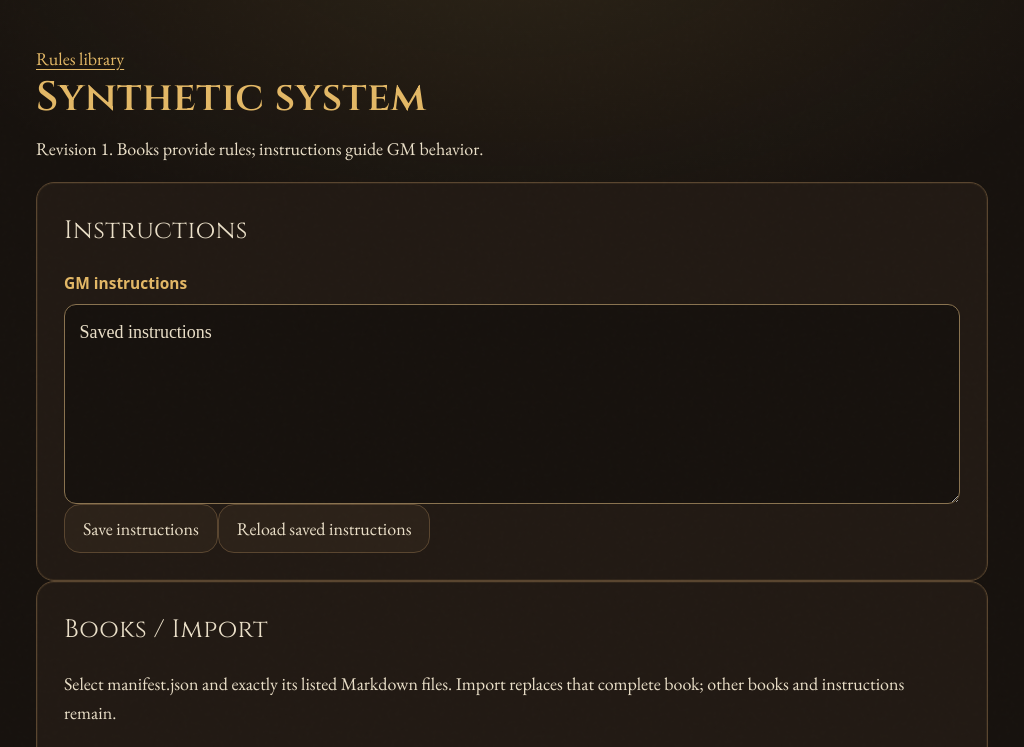
Scenario: saving instructions preserves the open editor and retries with the same revision/request identity
expect the heading "Synthetic system" is shown: met, box [36,70,426,125]
Replace the text in the text box labelled "GM instructions" with "Draft instructions" at {"x": 512, "y": 404}, box [64,304,960,504]
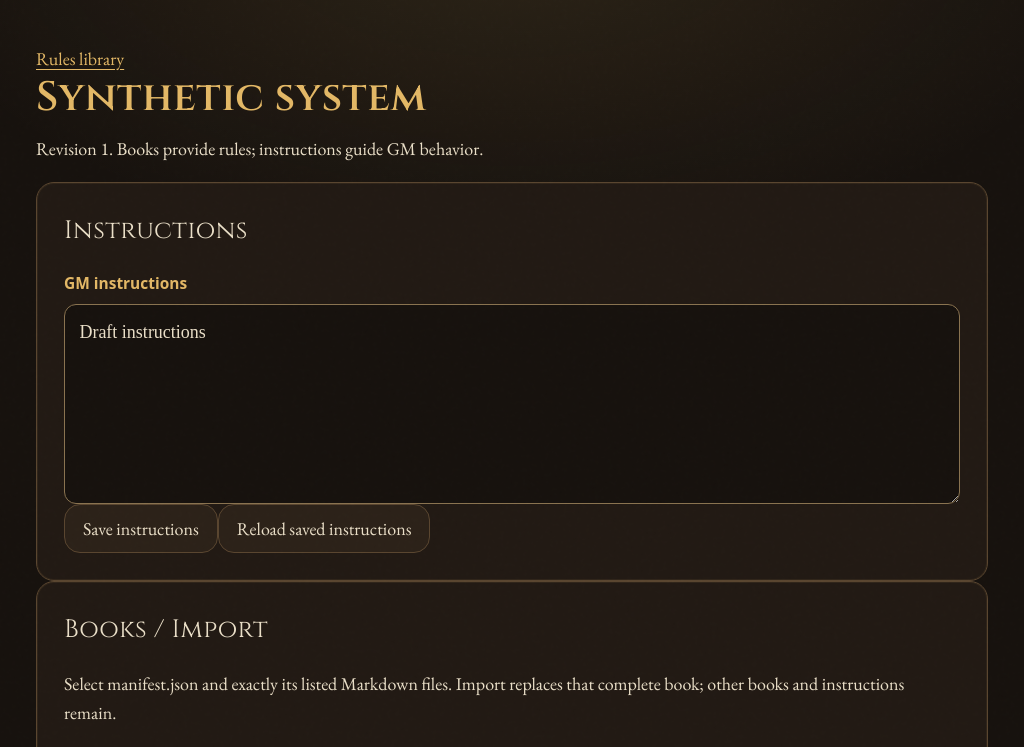
Click the button "Save instructions".
click(141, 528)  # box [64,504,218,553]
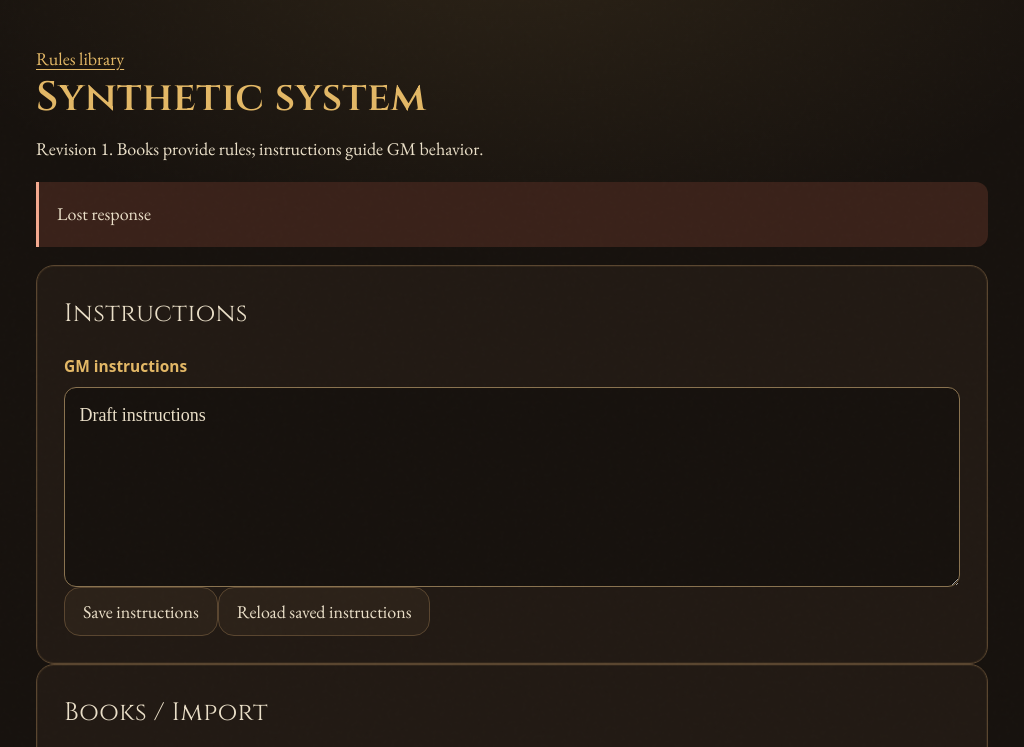
expect the message "Lost response" is shown: met, box [36,182,988,247]
Click the button "Save instructions".
click(141, 611)  # box [64,587,218,636]
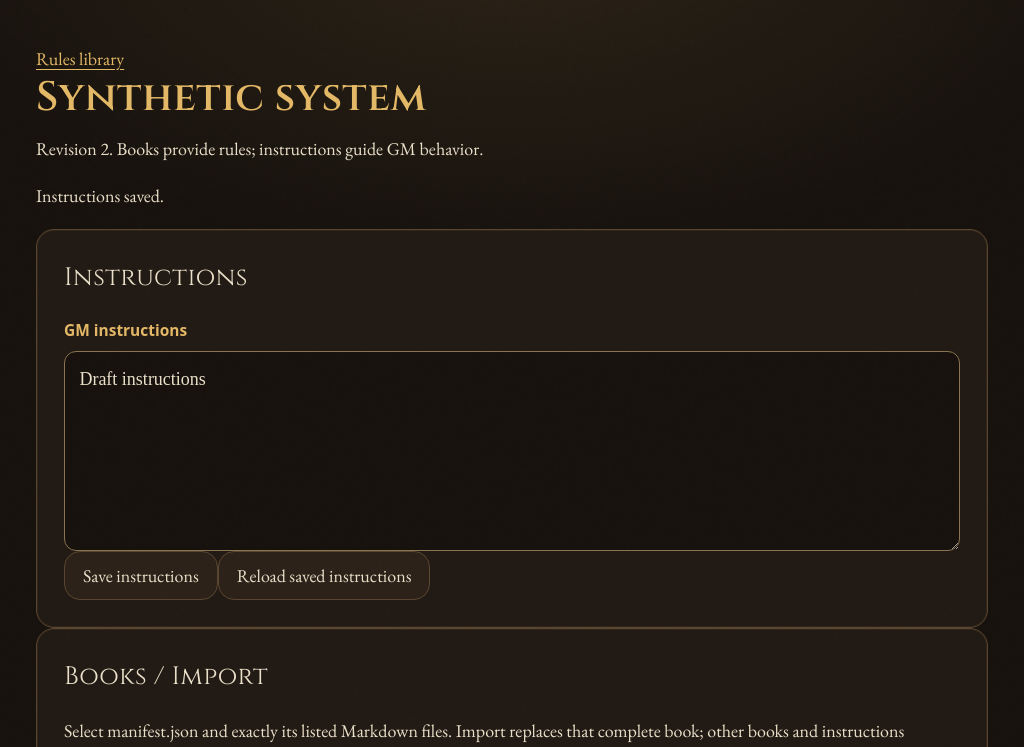
expect the text "Instructions saved." is shown: met, box [36,184,164,207]
